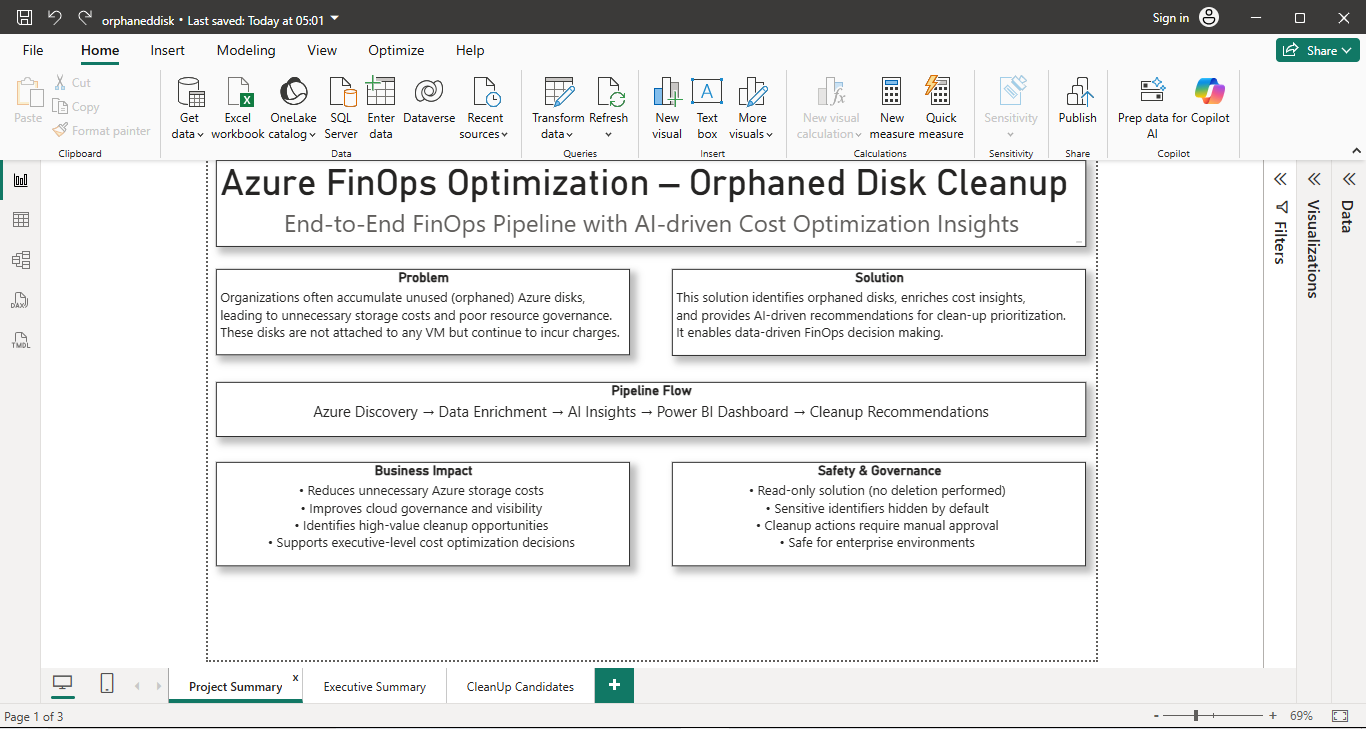

Layout of this report page (visuals, bound fields, positions):
{"tool":"powerbi","page":{"name":"Project Summary","canvas":[1280,720],"ordinal":0},"visuals":[{"type":"textbox","title":"Azure FinOps Optimization – Orphaned Disk Cleanup","box":[11.5,0,1252.8,125.3],"z":0},{"type":"textbox","title":"Problem","box":[11.5,157,596.2,123.8],"z":1000},{"type":"textbox","title":"Solution","box":[668.2,157,596.2,125.3],"z":2000},{"type":"textbox","title":"Pipeline Flow ","box":[11.5,319.7,1252.8,79.2],"z":3000},{"type":"textbox","title":"Business Impact","box":[11.5,434.9,596.2,149.8],"z":4000},{"type":"textbox","title":"Safety & Governance","box":[668.2,434.9,596.2,149.8],"z":5000}]}

Visuals, with their boxes on the page's 1280x720 design canvas (x1, y1, x2, y2). These are canvas units, not pixel positions in the 1366x729 screenshot, which may show the page scaled, cropped or inside an application window:
"Azure FinOps Optimization – Orphaned Disk Cleanup" textbox: crop(12, 0, 1264, 125)
"Problem" textbox: crop(12, 157, 608, 281)
"Solution" textbox: crop(668, 157, 1264, 282)
"Pipeline Flow " textbox: crop(12, 320, 1264, 399)
"Business Impact" textbox: crop(12, 435, 608, 585)
"Safety & Governance" textbox: crop(668, 435, 1264, 585)
